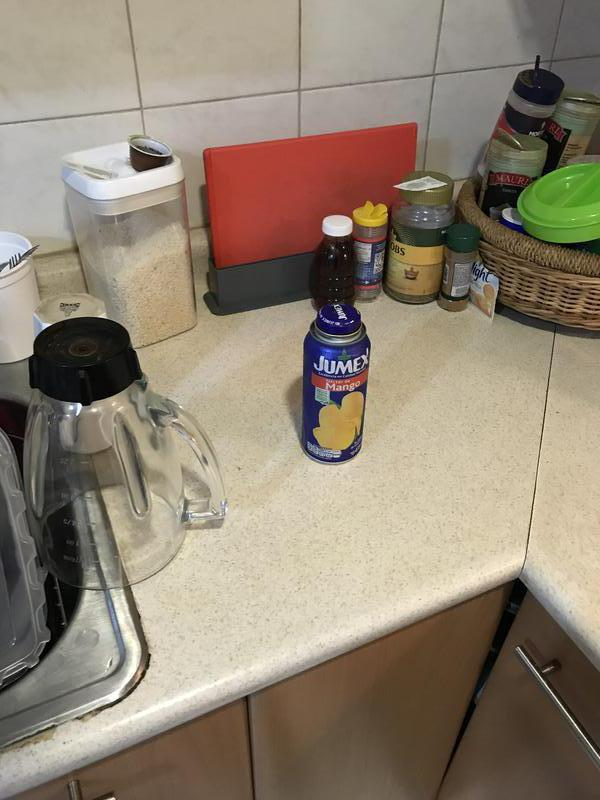jugo_jumex: (301, 303, 365, 464)
